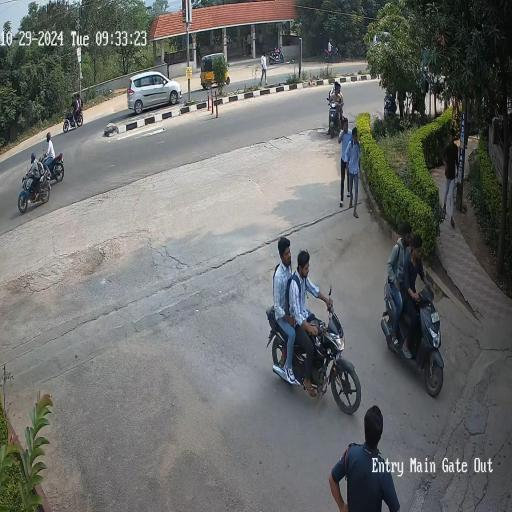helmet: (42, 126, 56, 153), (25, 150, 42, 171)
no helmet: (293, 247, 327, 292), (406, 230, 434, 267), (328, 84, 349, 117)
triple riding: (63, 90, 88, 131)
